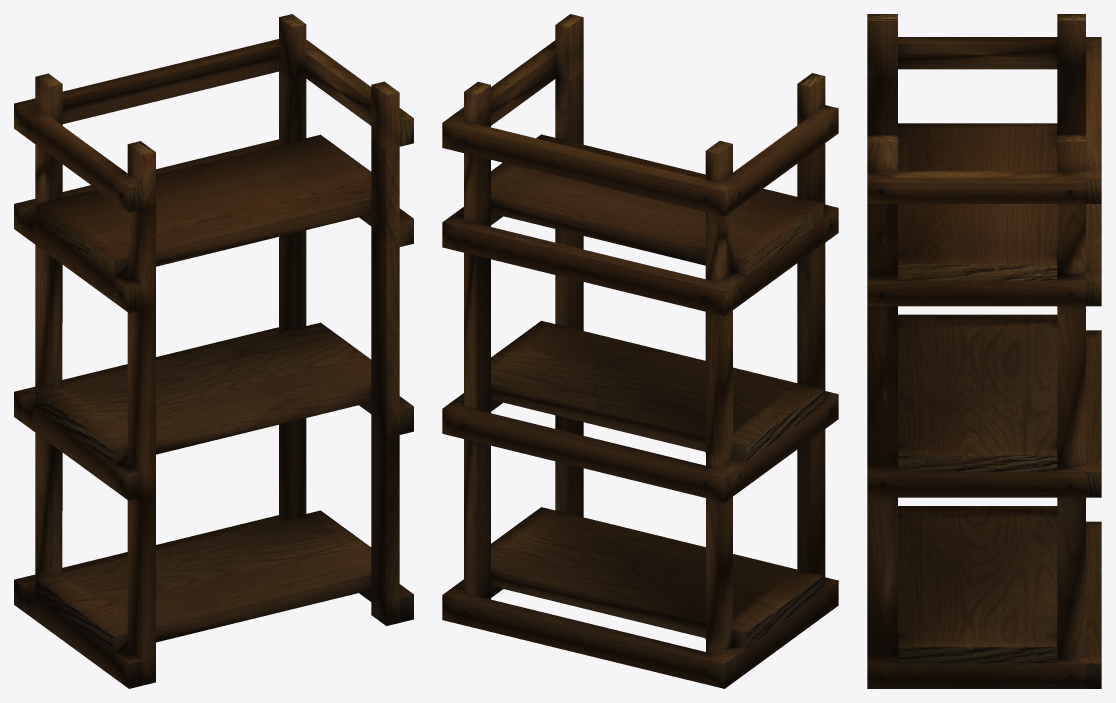
The model's file is Bookshelf.fbx.
3 renders of one model, left to right at view 1: azimuth 30°, elevation 25°; view 2: azimuth 150°, elevation 25°; view 3: azimuth 270°, elevation 25°, orthographic. The views are drawn at different scales.
Visible parts, largest first — view 1: Cube; view 2: Cube; view 3: Cube.
Boxes of the visible parts, x1,y1,x2,y2 form: Cube: (14,14,413,688); Cube: (442,14,838,688); Cube: (867,14,1101,688).
Size of the model in its own units: 1.58 by 2.81 by 1.1.
